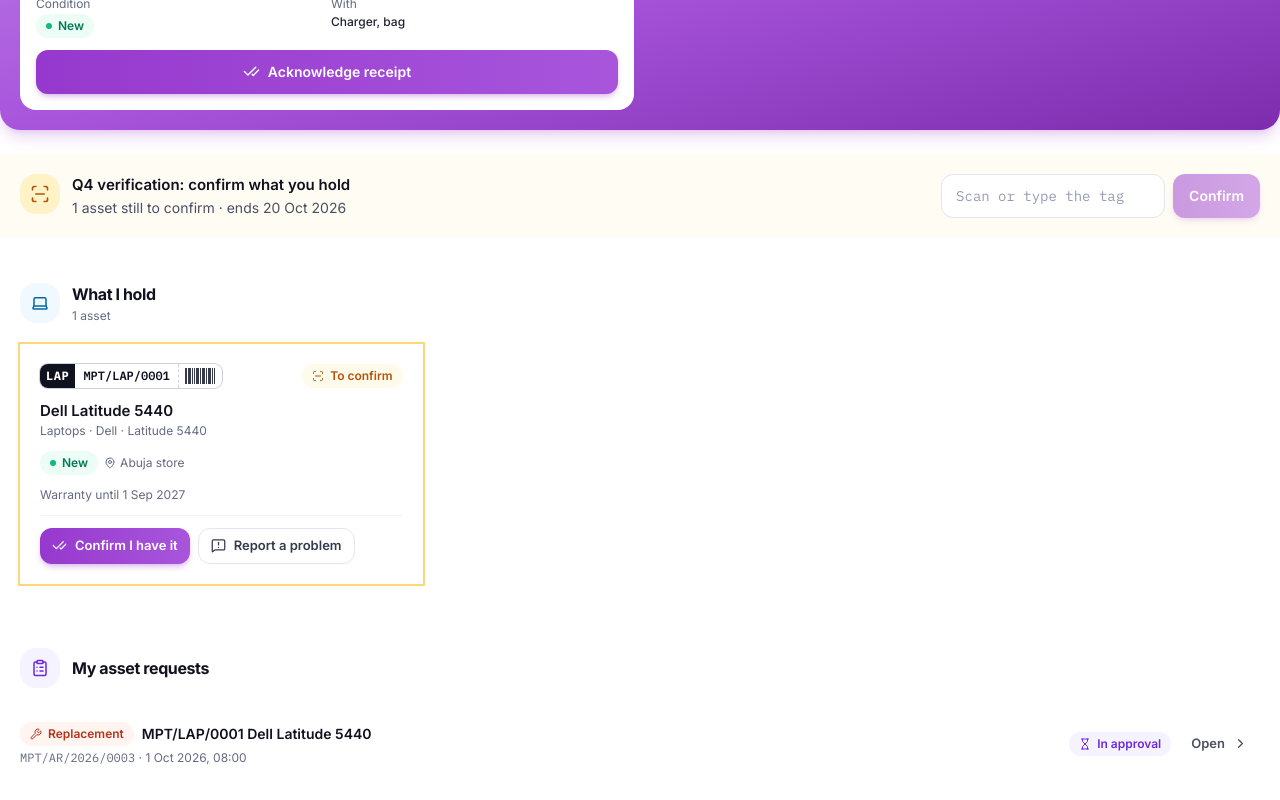
Test: MyAssets › starts a fault report on the asset it was raised from
The image size is (1280, 800).
(page scrolled)
Click the button with aria-label "Report a problem with MPT/LAP/0001" at (276, 546), box [198,528,354,564]
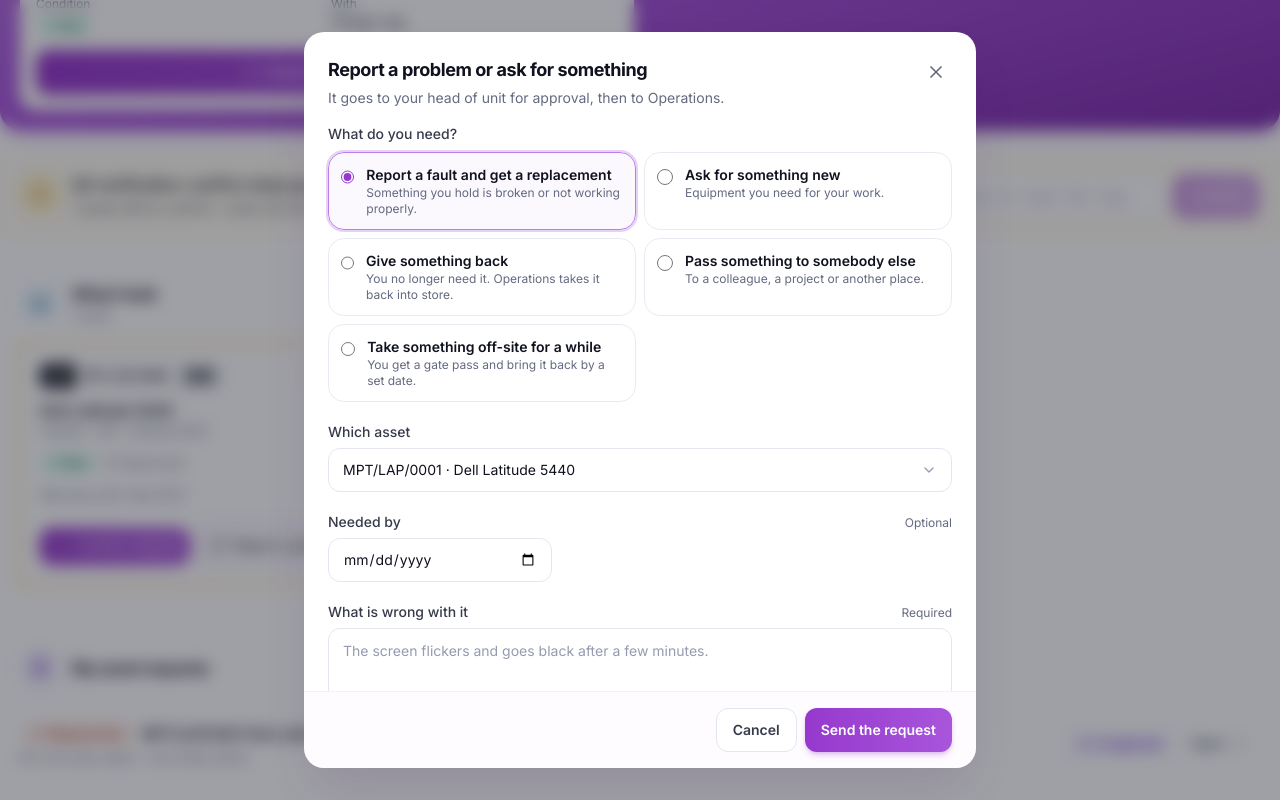
Type "Battery lasts twenty minutes." into the text box labelled "What is wrong with it" at (640, 671), box [328,628,952,714]
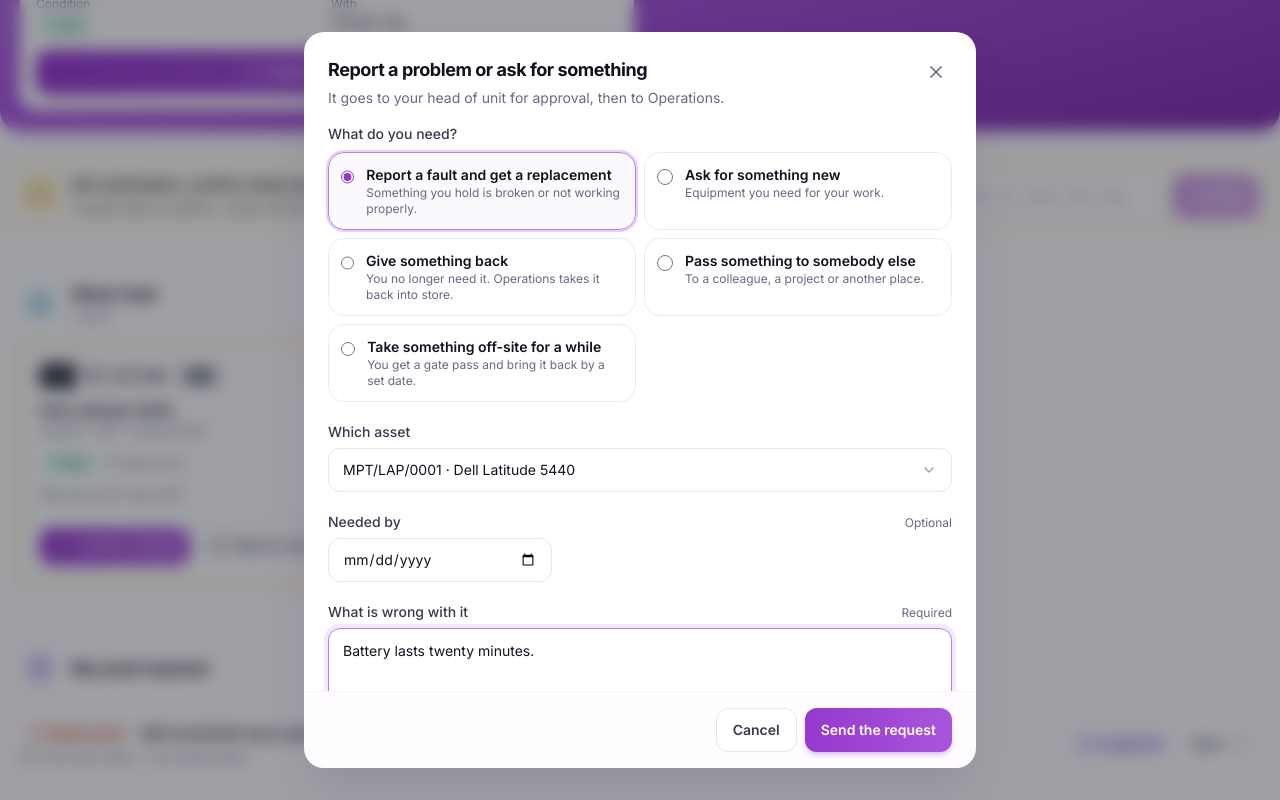
Click the button "Send the request" at (878, 730), box [805,708,952,752]
(page scrolled)
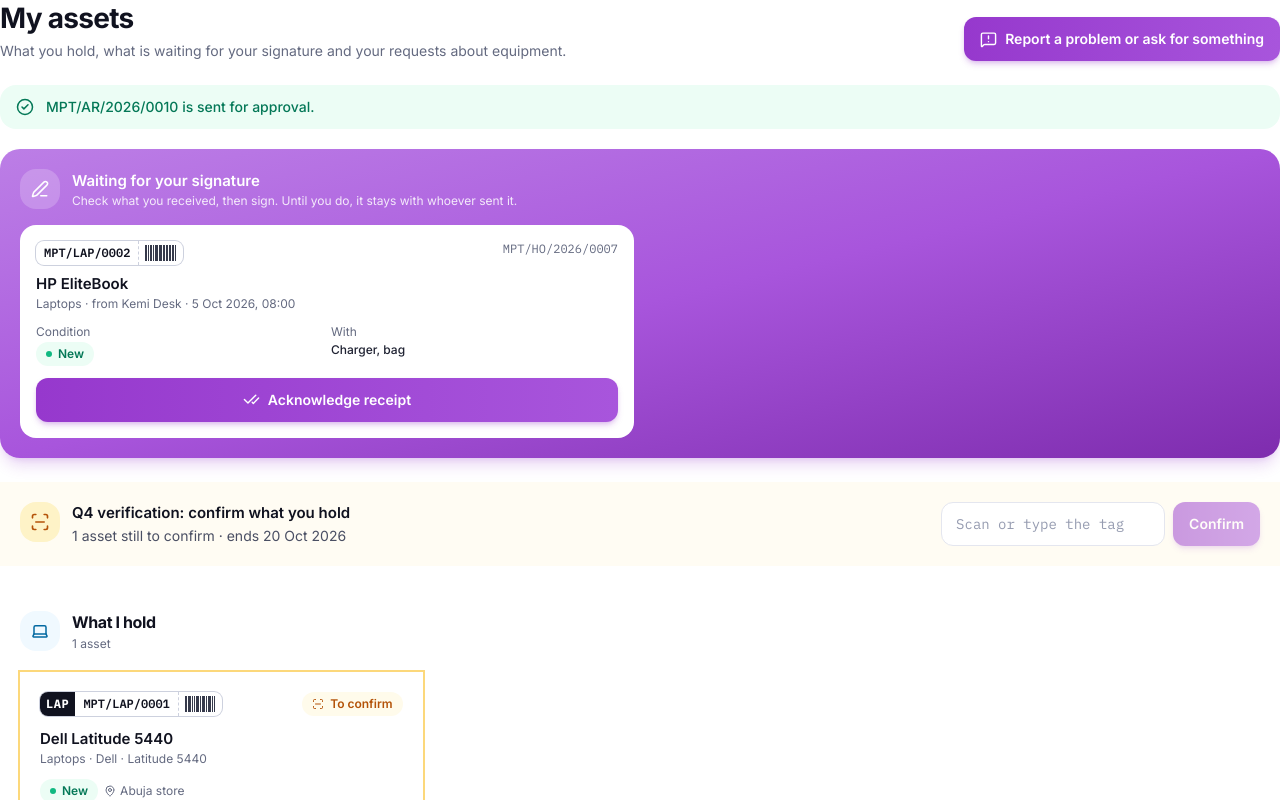
Now the text "MPT/AR/2026/0010 is sent for approval." is shown, box [0,85,1279,129]
